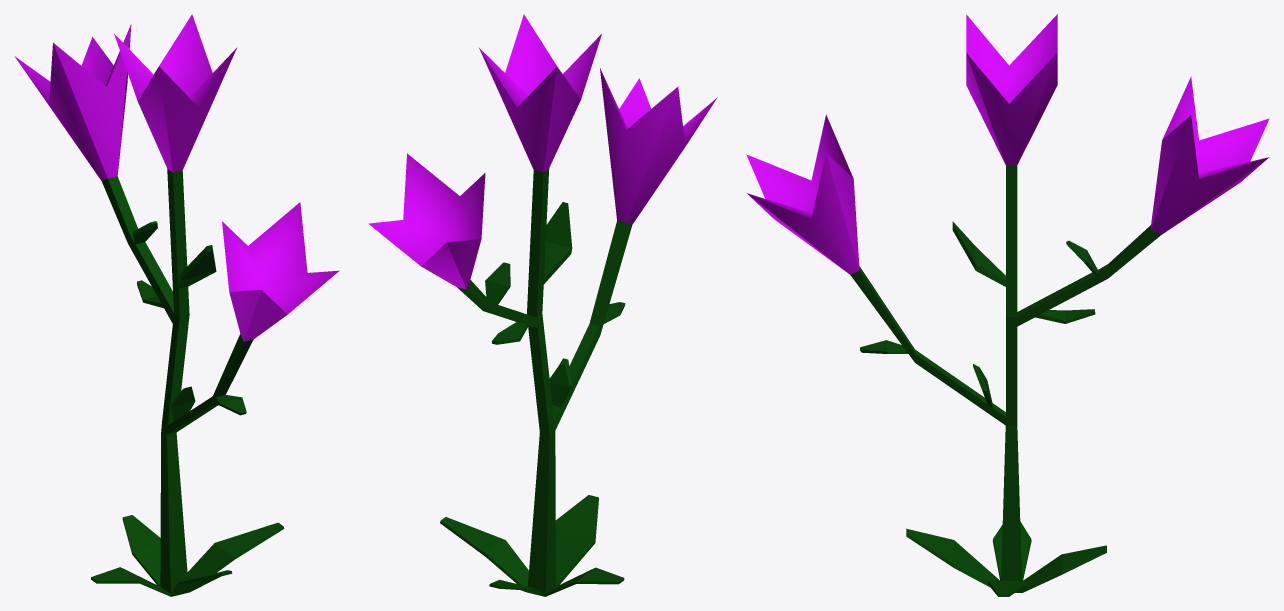
Rendered from collect_flower_001.FBX.
3 renders of one model, left to right at view 1: azimuth 30°, elevation 25°; view 2: azimuth 150°, elevation 25°; view 3: azimuth 270°, elevation 25°, orthographic.
Visible parts, largest first — view 1: Box004; view 2: Box004; view 3: Box004.
Part boxes in pixels (box(x1,y1,x2,y2)): Box004: box(14, 14, 339, 596); Box004: box(368, 14, 717, 596); Box004: box(746, 14, 1269, 596).
Bounding box in the file's own units: 0.00451 × 0.0129 × 0.0111.
